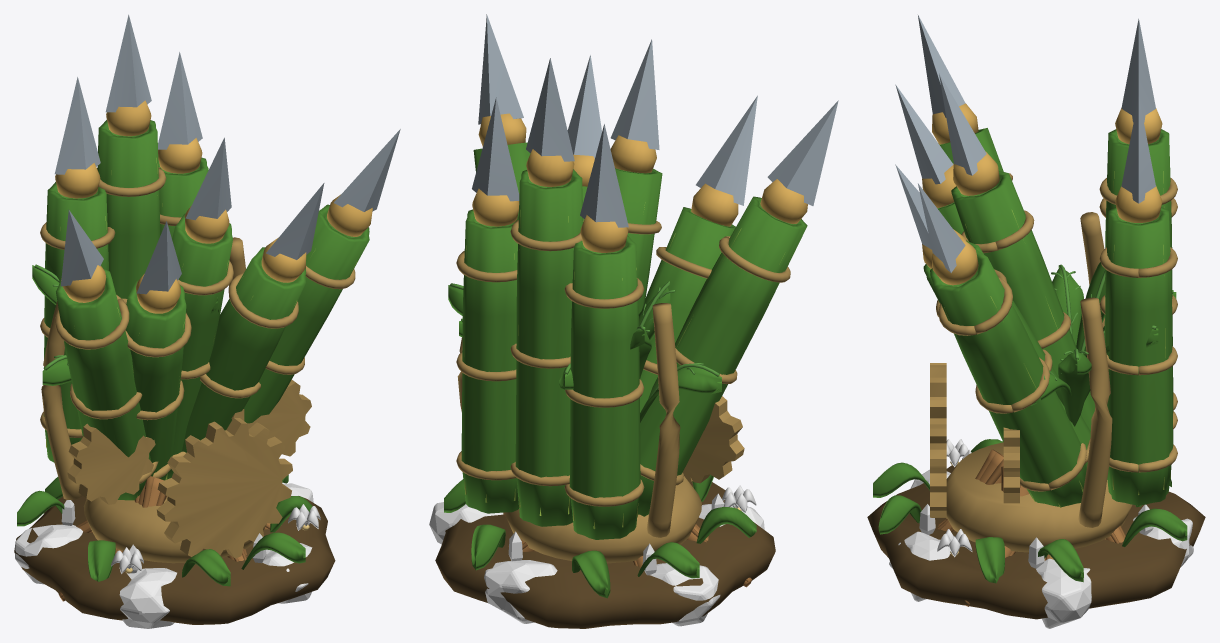
Rendered from bamboo-5.fbx.
The picture shows the model from 3 angles, left to right: view 1: azimuth 30°, elevation 25°; view 2: azimuth 150°, elevation 25°; view 3: azimuth 270°, elevation 25°; orthographic projection. The views are drawn at different scales.
Parts seen in each view (by area): view 1: Spears_PortalBamboo, Spears_Metal, bamboo-5_Organic, Turret_Metal, Core_Metal, bamboo-5_Stone, bamboo-5_PortalBamboo, Petals_PortalBamboo, bamboo-5_Petal, bamboo-5_Bark, bamboo-5_SuperGlow; view 2: Spears_PortalBamboo, Spears_Metal, bamboo-5_Organic, Turret_Metal, bamboo-5_Stone, bamboo-5_PortalBamboo, Petals_PortalBamboo, bamboo-5_SuperGlow, bamboo-5_Petal; view 3: Spears_PortalBamboo, Spears_Metal, bamboo-5_Organic, Turret_Metal, bamboo-5_PortalBamboo, Petals_PortalBamboo, bamboo-5_Stone, Core_Metal, bamboo-5_Bark, bamboo-5_Petal, bamboo-5_SuperGlow.
Part boxes in pixels (x1=…): Spears_PortalBamboo: x1=43, y1=119, x2=369, y2=500; Spears_Metal: x1=40, y1=14, x2=400, y2=483; bamboo-5_Organic: x1=14, y1=496, x2=335, y2=624; Turret_Metal: x1=41, y1=237, x2=311, y2=563; Core_Metal: x1=156, y1=418, x2=292, y2=558; bamboo-5_Stone: x1=15, y1=483, x2=313, y2=628; bamboo-5_PortalBamboo: x1=17, y1=475, x2=312, y2=586; Petals_PortalBamboo: x1=32, y1=264, x2=218, y2=385; bamboo-5_Petal: x1=111, y1=504, x2=320, y2=573; bamboo-5_Bark: x1=58, y1=476, x2=270, y2=601; bamboo-5_SuperGlow: x1=61, y1=500, x2=266, y2=573; Spears_PortalBamboo: x1=461, y1=142, x2=807, y2=539; Spears_Metal: x1=456, y1=14, x2=838, y2=506; bamboo-5_Organic: x1=435, y1=481, x2=775, y2=628; Turret_Metal: x1=457, y1=303, x2=744, y2=563; bamboo-5_Stone: x1=429, y1=502, x2=764, y2=626; bamboo-5_PortalBamboo: x1=444, y1=474, x2=756, y2=598; Petals_PortalBamboo: x1=448, y1=281, x2=721, y2=422; bamboo-5_SuperGlow: x1=508, y1=493, x2=724, y2=575; bamboo-5_Petal: x1=722, y1=485, x2=756, y2=513; Spears_PortalBamboo: x1=923, y1=128, x2=1173, y2=507; Spears_Metal: x1=895, y1=15, x2=1177, y2=491; bamboo-5_Organic: x1=867, y1=461, x2=1205, y2=619; Turret_Metal: x1=946, y1=212, x2=1132, y2=552; bamboo-5_PortalBamboo: x1=873, y1=439, x2=1187, y2=583; Petals_PortalBamboo: x1=1031, y1=262, x2=1176, y2=426; bamboo-5_Stone: x1=889, y1=469, x2=1193, y2=628; Core_Metal: x1=930, y1=363, x2=946, y2=517; bamboo-5_Bark: x1=937, y1=449, x2=1125, y2=606; bamboo-5_Petal: x1=937, y1=439, x2=972, y2=557; bamboo-5_SuperGlow: x1=919, y1=450, x2=1153, y2=568.
Size of the model in its own units: 97.63 by 148 by 82.7.
